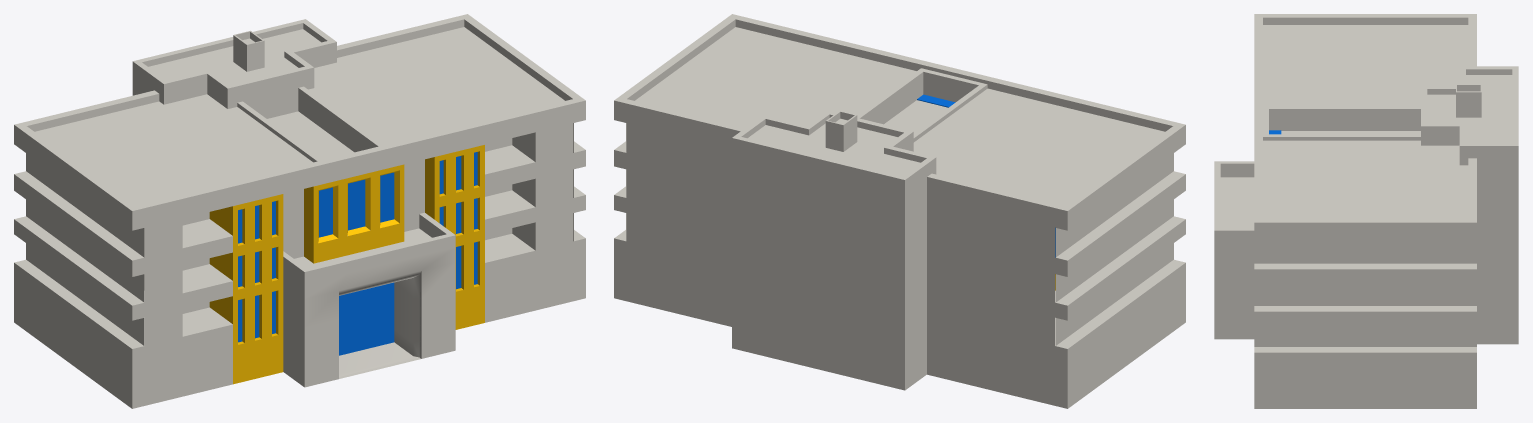
File: 제1학술관.fbx
3 views of the same model, side by side, from view 1: azimuth 30°, elevation 25°; view 2: azimuth 150°, elevation 25°; view 3: azimuth 270°, elevation 25° (orthographic). The views are drawn at different scales.
Parts seen in each view (by area): view 1: Cube, Cube_1, Cube_112, Cube_111, Cube_110, Cube_109, Cube_14; view 2: Cube, Cube_1, Cube_14; view 3: Cube, Cube_1, Cube_14.
Boxes of the visible parts, x1,y1,x2,y2 form: Cube: [14, 14, 585, 408]; Cube_1: [132, 19, 336, 118]; Cube_112: [339, 282, 394, 355]; Cube_111: [319, 172, 394, 237]; Cube_110: [238, 201, 275, 342]; Cube_109: [439, 152, 477, 289]; Cube_14: [233, 30, 264, 71]; Cube: [614, 14, 1185, 408]; Cube_1: [732, 110, 936, 390]; Cube_14: [825, 111, 857, 151]; Cube: [1214, 14, 1476, 408]; Cube_1: [1421, 66, 1518, 344]; Cube_14: [1456, 84, 1481, 117].
Bounding box in the file's own units: 563 × 279 × 347.
